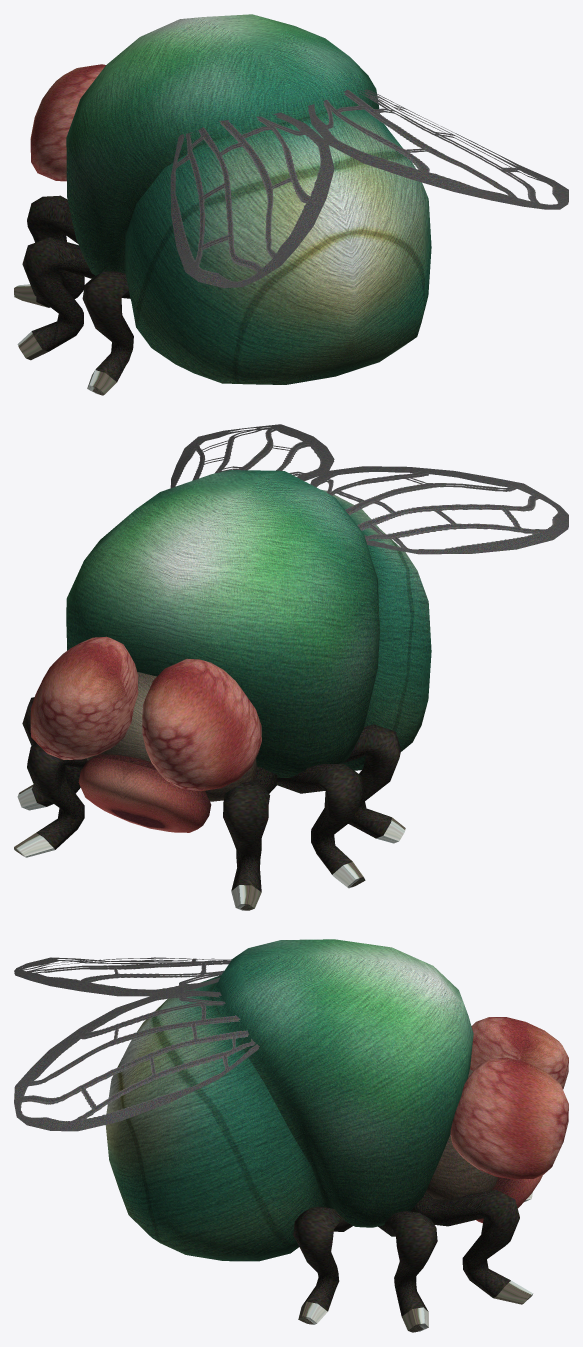
Rendered from CRT0110034.fbx.
3 views of the same model, one above another, from view 1: azimuth 30°, elevation 25°; view 2: azimuth 150°, elevation 25°; view 3: azimuth 270°, elevation 25° (orthographic). The views are drawn at different scales.
Visible parts, largest first — view 1: smCRT0110034; view 2: smCRT0110034; view 3: smCRT0110034.
Part boxes in pixels (<box>): smCRT0110034: <box>14,14,568,395</box>; smCRT0110034: <box>14,424,568,910</box>; smCRT0110034: <box>14,939,568,1332</box>.
Bounding box in the file's own units: 11.69 × 9.61 × 15.95.
1 material, 1 textured.
